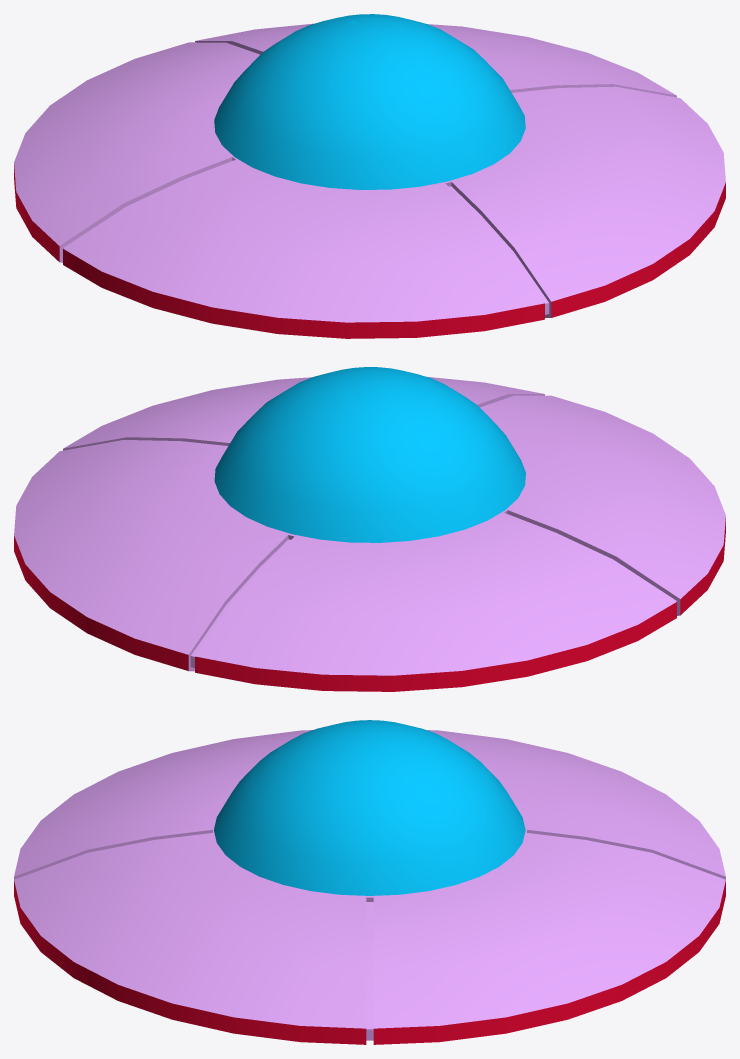
File: Low_poly_UFO2.obj
The picture shows the model from 3 angles, top to bottom: view 1: azimuth 30°, elevation 25°; view 2: azimuth 150°, elevation 25°; view 3: azimuth 270°, elevation 25°; orthographic projection.
Size of the model in its own units: 67.87 by 27.04 by 67.87.
